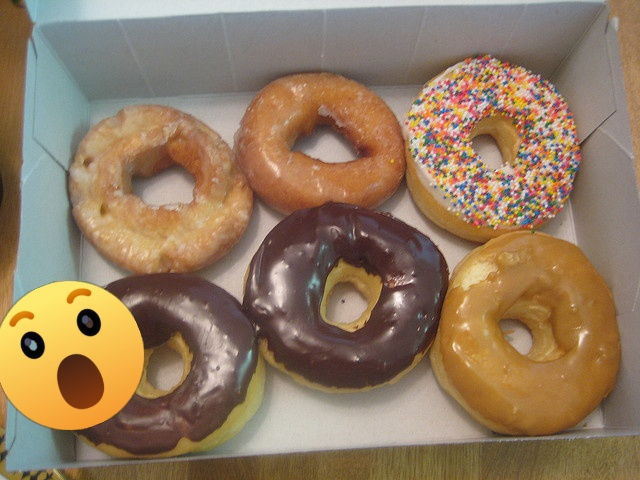wow: (0, 281, 144, 430)
